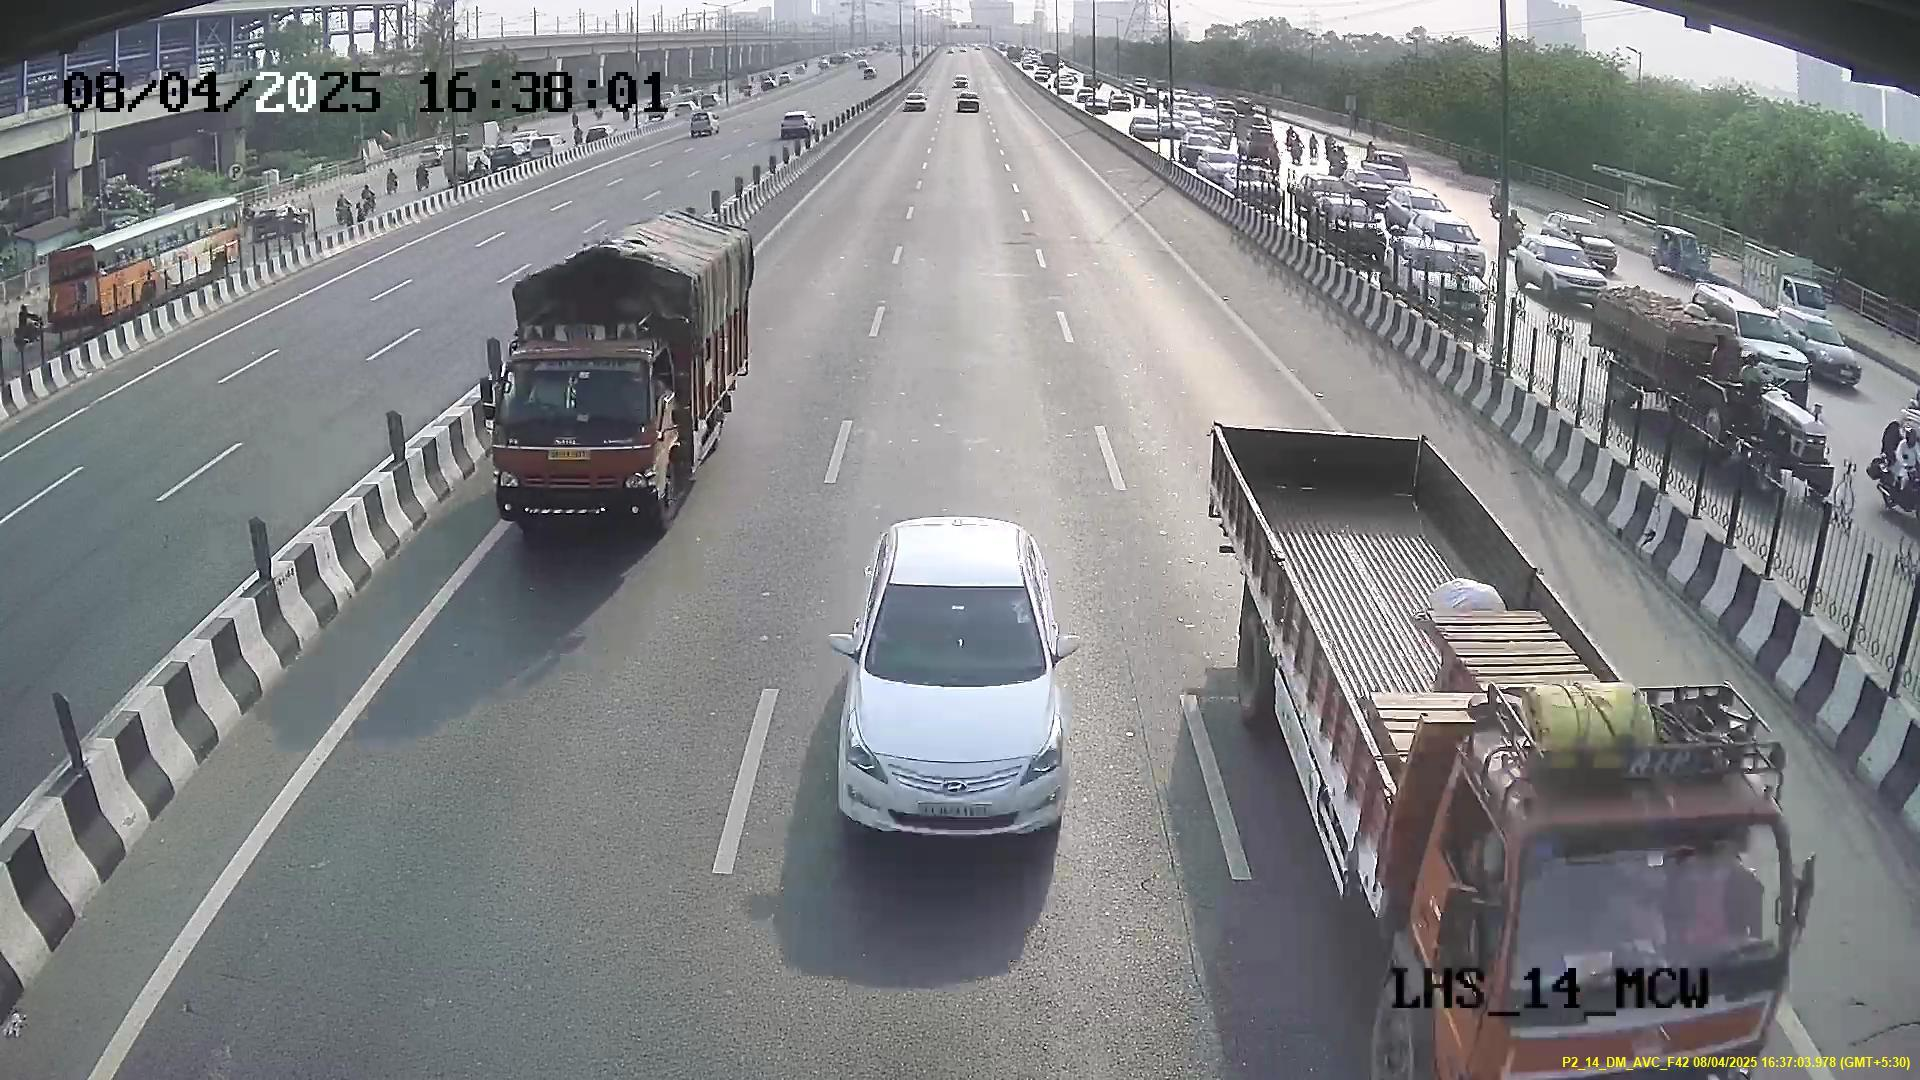car: (833, 562, 1080, 840)
lcv: (476, 332, 687, 533)
